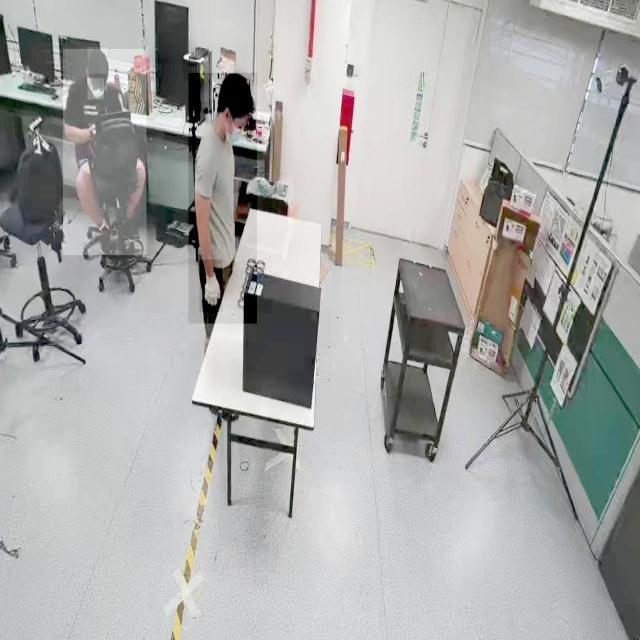gloves: (199, 259, 223, 313)
